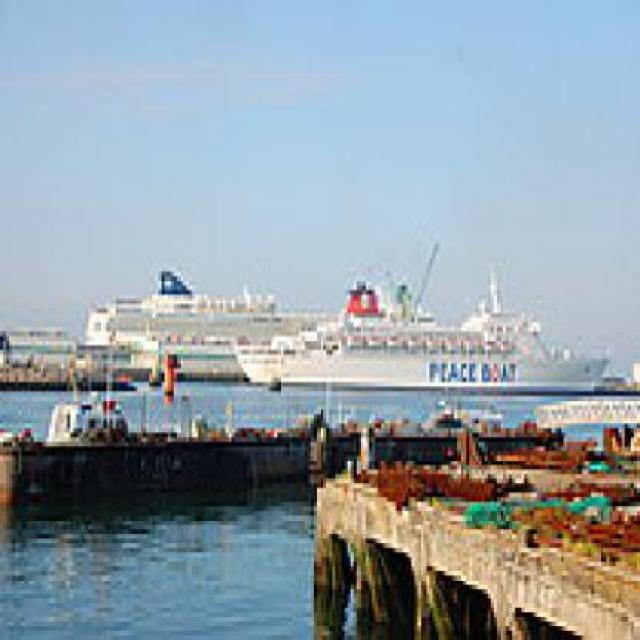cruise: (230, 282, 624, 406)
